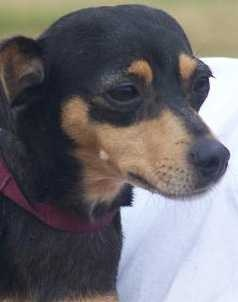dog: (2, 3, 229, 293)
